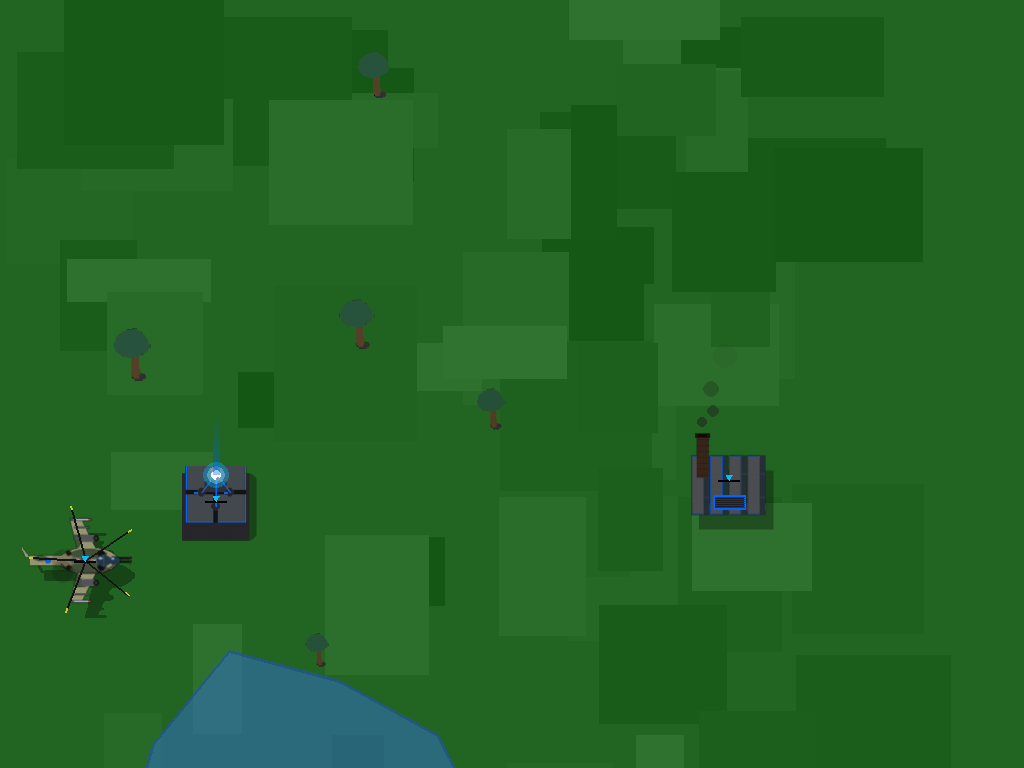FactoryBuilding: (679, 429, 780, 530)
Lake: (122, 651, 498, 768)
Mi24: (52, 527, 116, 591)
ResearchCenter: (176, 460, 255, 539)
